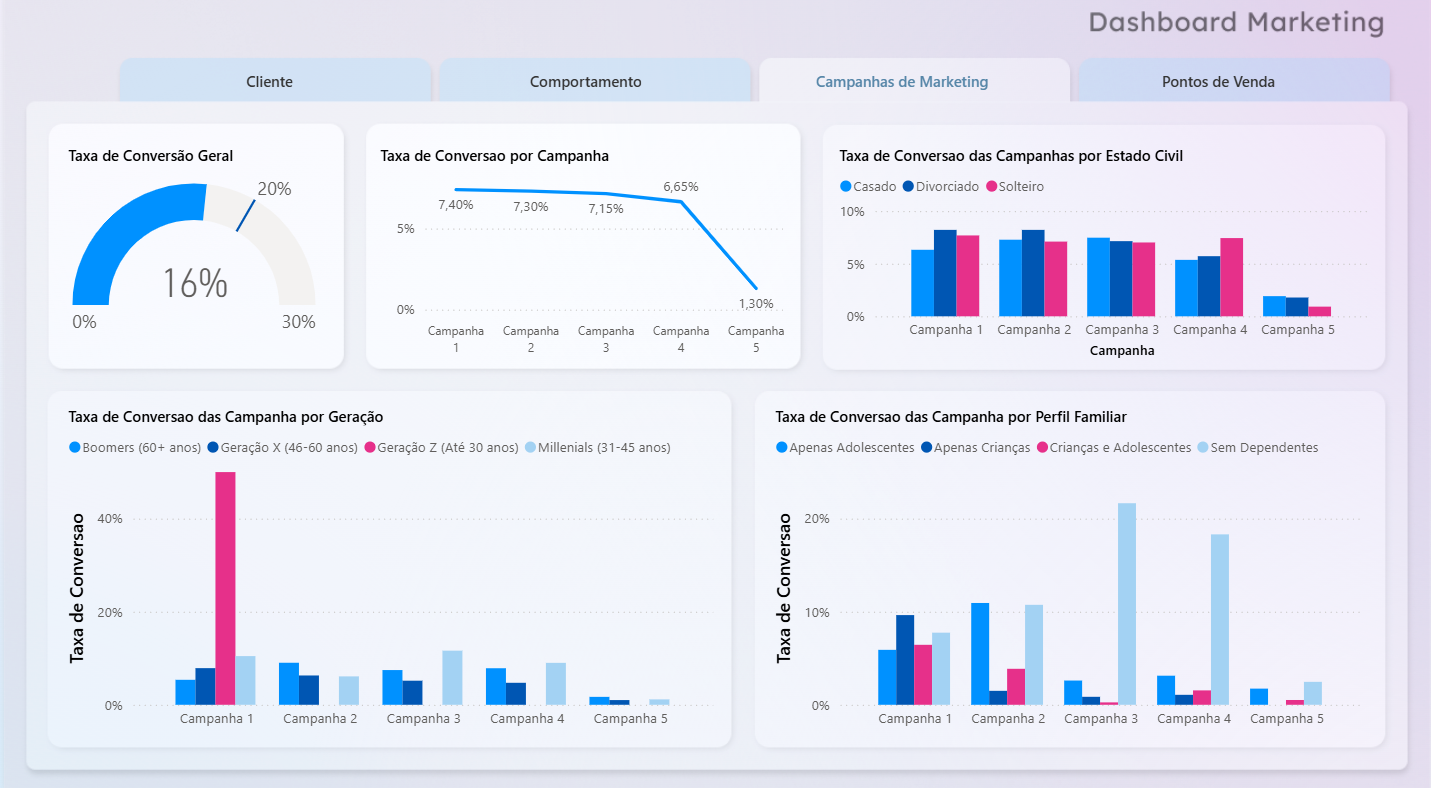

What the dashboard file says about the page in this screenshot:
{"tool":"powerbi","page":{"name":"Campanhas de Marketing","canvas":[1280,720],"ordinal":2},"visuals":[{"type":"areaChart","fields":{"Category":["Tabela Auxiliar.Coluna Campanha"],"Y":["Tabela Auxiliar.Taxa de Conversao"]},"box":[45.8,179.6,390.5,204.7],"z":0},{"type":"clusteredColumnChart","title":"Taxa de Conversao das Campanha por Geração","fields":{"Category":["Tabela Auxiliar.Campanha"],"Y":["Tabela Auxiliar.Taxa de Conversao"],"Series":["DadosMarketing.Geração"]},"box":[45.8,405.8,603.3,271.1],"z":1000},{"type":"clusteredColumnChart","title":"Taxa de Conversao das Campanha por Perfil Familiar","fields":{"Category":["Tabela Auxiliar.Campanha"],"Y":["Tabela Auxiliar.Taxa de Conversao"],"Series":["DadosMarketing.Perfil Consumidor"]},"box":[680.5,405.8,550.3,271.1],"z":2000},{"type":"gauge","title":"Taxa de Conversão Geral","fields":{"Y":["Tabela Auxiliar.Conversao Geral"],"MaxValue":["Tabela Auxiliar.Maxi"],"TargetValue":["Tabela Auxiliar.Meta Conversao"]},"box":[983.9,179.6,246.9,204.7],"z":3000},{"type":"clusteredColumnChart","title":"Taxa de Conversao das Campanhas por Estado Civil","fields":{"Y":["Tabela Auxiliar.Taxa de Conversao"],"Category":["Tabela Auxiliar.Campanha"],"Series":["DadosMarketing.Estado Civil"]},"box":[451.6,179.6,500.9,204.7],"z":4000},{"type":"pageNavigator","box":[95.2,112.2,1141.9,45.8],"z":5000}]}

Visuals, with their boxes in screenshot pixels (x1, y1, x2, y2), scaled from the page's 1280x720 canvas onto the 1431x788 screenshot:
areaChart - Tabela Auxiliar.Coluna Campanha x Tabela Auxiliar.Taxa de Conversao: [x1=51, y1=197, x2=488, y2=421]
"Taxa de Conversao das Campanha por Geração" clusteredColumnChart: [x1=51, y1=444, x2=726, y2=741]
"Taxa de Conversao das Campanha por Perfil Familiar" clusteredColumnChart: [x1=761, y1=444, x2=1376, y2=741]
"Taxa de Conversão Geral" gauge: [x1=1100, y1=197, x2=1376, y2=421]
"Taxa de Conversao das Campanhas por Estado Civil" clusteredColumnChart: [x1=505, y1=197, x2=1065, y2=421]
pageNavigator: [x1=106, y1=123, x2=1383, y2=173]
